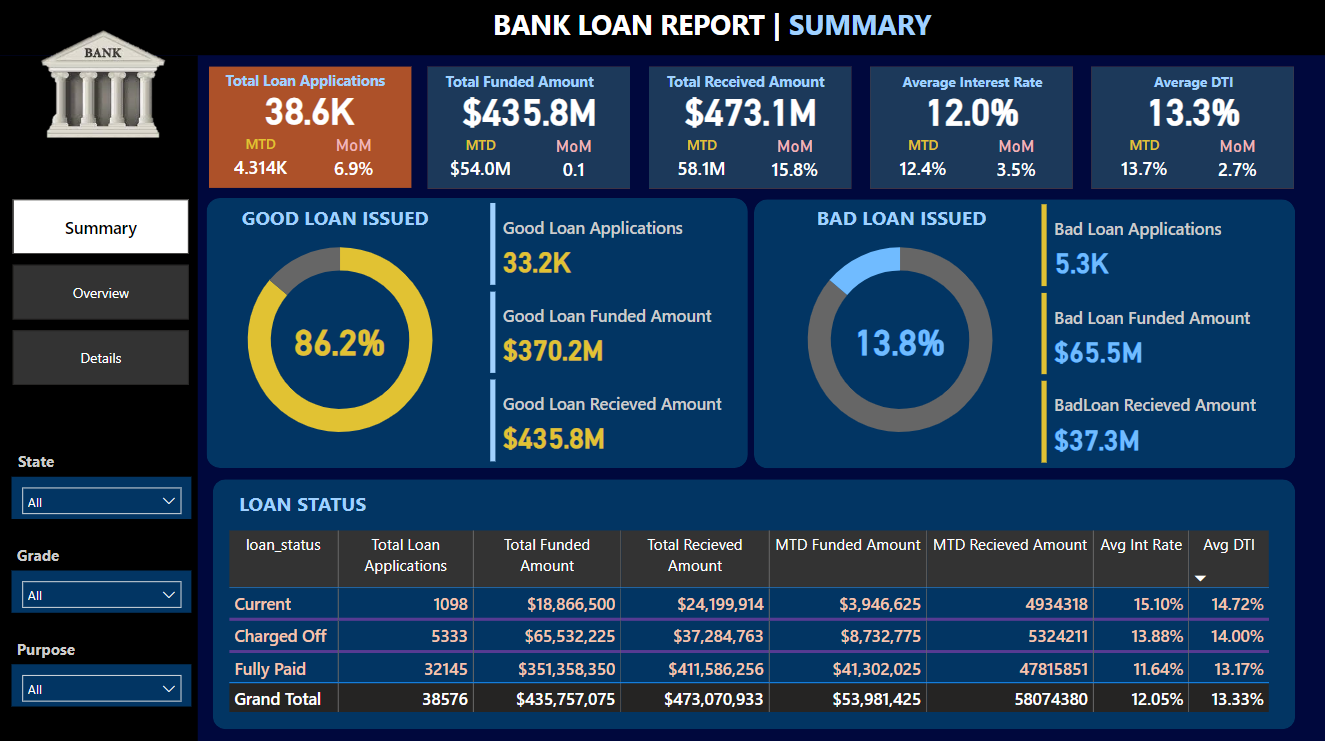

The page's visual inventory and layout, read from the dashboard file:
{"tool":"powerbi","page":{"name":"Summary","canvas":[1280,720],"ordinal":0},"visuals":[{"type":"shape","box":[0,0,1280,55.5],"z":0},{"type":"shape","box":[203.3,65.9,195.4,117],"z":0,"group":"g1"},{"type":"shape","box":[414.1,66.4,195.4,117.5],"z":0,"group":"g2"},{"type":"shape","box":[627.6,66.4,195.4,117.5],"z":0,"group":"g4"},{"type":"shape","box":[841.1,66.4,195.4,117.5],"z":0,"group":"g3"},{"type":"shape","box":[1054.7,66.4,195.4,117.5],"z":0,"group":"g5"},{"type":"shape","box":[0,55.5,191.8,664.7],"z":1000},{"type":"card","fields":{"Values":["financial_loan.Total Loan Applications"]},"box":[201.5,79.9,196.6,53.2],"z":1000,"group":"g1"},{"type":"card","fields":{"Values":["financial_loan.Total Funded Amount"]},"box":[414.1,81.2,196.6,53.2],"z":1000,"group":"g2"},{"type":"card","fields":{"Values":["financial_loan.Total Recieved Amount"]},"box":[627.6,81.2,196.6,53.2],"z":1000,"group":"g4"},{"type":"card","fields":{"Values":["financial_loan.Avg Int Rate"]},"box":[841.1,81.2,196.6,53.2],"z":1000,"group":"g3"},{"type":"card","fields":{"Values":["financial_loan.Avg DTI"]},"box":[1054.7,81.2,196.6,53.2],"z":1000,"group":"g5"},{"type":"textbox","box":[471.7,2.4,450,53.1],"z":2000},{"type":"textbox","box":[213.9,65.1,173.1,29.7],"z":2000,"group":"g1"},{"type":"textbox","box":[426.5,66.4,173.1,29.7],"z":2000,"group":"g2"},{"type":"textbox","box":[640,66.4,173.1,29.7],"z":2000,"group":"g4"},{"type":"textbox","box":[853.5,66.4,173.1,29.7],"z":2000,"group":"g3"},{"type":"textbox","box":[1067.1,66.4,173.1,29.7],"z":2000,"group":"g5"},{"type":"group","id":"g1","title":"Group 1","box":[201.5,65.1,197.9,118.2],"z":3000},{"type":"card","title":"MTD","fields":{"Values":["financial_loan.MTD Loan Applications"]},"box":[213.2,131.1,77.9,50.5],"z":3000,"group":"g1"},{"type":"card","title":"MTD","fields":{"Values":["financial_loan.MTD Funded Amount"]},"box":[425.8,132.4,77.9,50.5],"z":3000,"group":"g2"},{"type":"card","title":"MTD","fields":{"Values":["financial_loan.MTD Recieved Amount"]},"box":[639.3,132.4,77.9,50.5],"z":3000,"group":"g4"},{"type":"card","title":"MTD","fields":{"Values":["financial_loan.MTD Avg Int Rate"]},"box":[852.8,132.4,77.9,50.5],"z":3000,"group":"g3"},{"type":"card","title":"MTD","fields":{"Values":["financial_loan.MTD Avg DTI"]},"box":[1066.4,132.4,77.9,50.5],"z":3000,"group":"g5"},{"type":"group","id":"g2","title":"Group 1","box":[414.1,66.4,196.2,118.3],"z":4000},{"type":"card","title":"MoM","fields":{"Values":["financial_loan.MoM Loan Applications"]},"box":[299.8,131.1,86.6,50.5],"z":4000,"group":"g1"},{"type":"card","title":"MoM","fields":{"Values":["financial_loan.MoM Funded Amount"]},"box":[512.4,132.4,86.6,50.5],"z":4000,"group":"g2"},{"type":"card","title":"MoM","fields":{"Values":["financial_loan.MoM Recieved Amount"]},"box":[725.9,132.4,86.6,50.5],"z":4000,"group":"g4"},{"type":"card","title":"MoM","fields":{"Values":["financial_loan.MoM Avg Int Rate"]},"box":[939.4,132.4,86.6,50.5],"z":4000,"group":"g3"},{"type":"card","title":"MoM","fields":{"Values":["financial_loan.MoM Avg DTI"]},"box":[1153,132.4,86.6,50.5],"z":4000,"group":"g5"},{"type":"group","id":"g3","title":"Group 1","box":[841.1,66.4,196.2,118.3],"z":5000},{"type":"group","id":"g4","title":"Group 1","box":[627.6,66.4,196.2,118.3],"z":6000},{"type":"group","id":"g5","title":"Group 1","box":[1054.7,66.4,196.2,118.3],"z":7000},{"type":"shape","box":[200,193,522.5,260.6],"z":8000},{"type":"shape","box":[728.6,194.8,522.3,259.7],"z":9000},{"type":"donutChart","fields":{"Category":["financial_loan.Good v Bad Loan"],"Y":["financial_loan.Total Loan Applications"]},"box":[173.7,213.5,311.3,232.8],"z":10000},{"type":"card","fields":{"Values":["financial_loan.Good Loan %"]},"box":[243.7,302.8,170.1,55.5],"z":11000},{"type":"textbox","box":[229.2,194.2,199.1,38.6],"z":12000},{"type":"cardVisual","fields":{"Data":["financial_loan.Good Loan Applications","financial_loan.Good Loan Funded Amount","financial_loan.Good Loan Recieved Amount"]},"box":[469.3,193,248.5,260.6],"z":13000},{"type":"donutChart","fields":{"Category":["financial_loan.Good v Bad Loan"],"Y":["financial_loan.Total Loan Applications"]},"box":[714.2,213.5,311.3,232.8],"z":14000},{"type":"textbox","box":[784.2,194.2,199.1,38.6],"z":15000},{"type":"shape","box":[206.3,464.5,1044.8,241.3],"z":16000},{"type":"card","fields":{"Values":["financial_loan.Bad Loan %"]},"box":[784.2,302.8,170.1,55.5],"z":17000},{"type":"cardVisual","fields":{"Data":["financial_loan.Bad Loan Applications","financial_loan.Bad Loan Funded Amount","financial_loan.BadLoan Recieved Amount"]},"box":[1001.3,194.2,248.5,260.6],"z":18000},{"type":"tableEx","fields":{"Values":["financial_loan.loan_status","financial_loan.Total Loan Applications","financial_loan.Total Funded Amount","financial_loan.Total Recieved Amount","financial_loan.MTD Funded Amount","financial_loan.MTD Recieved Amount","financial_loan.Avg Int Rate","financial_loan.Avg DTI"]},"box":[216,509.1,1024.3,185.8],"z":19000},{"type":"textbox","box":[226.8,470.5,199.1,38.6],"z":20000},{"type":"slicer","fields":{"Values":["financial_loan.address_state"]},"box":[12.1,462.3,173.7,41],"z":21000},{"type":"textbox","box":[13.3,432.1,54.3,30.2],"z":22000},{"type":"slicer","fields":{"Values":["financial_loan.grade"]},"box":[12.1,552.8,173.7,41],"z":23000},{"type":"textbox","box":[12.1,522.4,70,30.2],"z":24000},{"type":"slicer","fields":{"Values":["financial_loan.purpose"]},"box":[12.1,643.2,173.7,41],"z":25000},{"type":"textbox","box":[12.1,612.9,84.5,30.2],"z":26000},{"type":"image","box":[14.5,0,168.9,168.9],"z":27000},{"type":"pageNavigator","box":[13.3,194.2,170.1,179.8],"z":28000}]}

Visuals, with their boxes in screenshot pixels (x1, y1, x2, y2), scaled from the page's 1280x720 canvas onto the 1325x741 screenshot:
shape: l=0, t=0, r=1324, b=57
shape: l=210, t=68, r=413, b=188
shape: l=429, t=68, r=631, b=189
shape: l=650, t=68, r=852, b=189
shape: l=871, t=68, r=1073, b=189
shape: l=1092, t=68, r=1294, b=189
shape: l=0, t=57, r=199, b=740
card - financial_loan.Total Loan Applications: l=209, t=82, r=412, b=137
card - financial_loan.Total Funded Amount: l=429, t=84, r=632, b=138
card - financial_loan.Total Recieved Amount: l=650, t=84, r=853, b=138
card - financial_loan.Avg Int Rate: l=871, t=84, r=1074, b=138
card - financial_loan.Avg DTI: l=1092, t=84, r=1295, b=138
textbox: l=488, t=2, r=954, b=57
textbox: l=221, t=67, r=401, b=98
textbox: l=441, t=68, r=621, b=99
textbox: l=662, t=68, r=842, b=99
textbox: l=884, t=68, r=1063, b=99
textbox: l=1105, t=68, r=1284, b=99
"Group 1" group: l=209, t=67, r=413, b=189
"MTD" card: l=221, t=135, r=301, b=187
"MTD" card: l=441, t=136, r=521, b=188
"MTD" card: l=662, t=136, r=742, b=188
"MTD" card: l=883, t=136, r=963, b=188
"MTD" card: l=1104, t=136, r=1185, b=188
"Group 1" group: l=429, t=68, r=632, b=190
"MoM" card: l=310, t=135, r=400, b=187
"MoM" card: l=530, t=136, r=620, b=188
"MoM" card: l=751, t=136, r=841, b=188
"MoM" card: l=972, t=136, r=1062, b=188
"MoM" card: l=1194, t=136, r=1283, b=188
"Group 1" group: l=871, t=68, r=1074, b=190
"Group 1" group: l=650, t=68, r=853, b=190
"Group 1" group: l=1092, t=68, r=1295, b=190
shape: l=207, t=199, r=748, b=467
shape: l=754, t=200, r=1295, b=468
donutChart - financial_loan.Good v Bad Loan x financial_loan.Total Loan Applications: l=180, t=220, r=502, b=459
card - financial_loan.Good Loan %: l=252, t=312, r=428, b=369
textbox: l=237, t=200, r=443, b=240
cardVisual - financial_loan.Good Loan Applications x financial_loan.Good Loan Funded Amount: l=486, t=199, r=743, b=467
donutChart - financial_loan.Good v Bad Loan x financial_loan.Total Loan Applications: l=739, t=220, r=1062, b=459
textbox: l=812, t=200, r=1018, b=240
shape: l=214, t=478, r=1295, b=726
card - financial_loan.Bad Loan %: l=812, t=312, r=988, b=369
cardVisual - financial_loan.Bad Loan Applications x financial_loan.Bad Loan Funded Amount: l=1037, t=200, r=1294, b=468
tableEx - financial_loan.loan_status x financial_loan.Total Loan Applications: l=224, t=524, r=1284, b=715
textbox: l=235, t=484, r=441, b=524
slicer - financial_loan.address_state: l=13, t=476, r=192, b=518
textbox: l=14, t=445, r=70, b=476
slicer - financial_loan.grade: l=13, t=569, r=192, b=611
textbox: l=13, t=538, r=85, b=569
slicer - financial_loan.purpose: l=13, t=662, r=192, b=704
textbox: l=13, t=631, r=100, b=662
image: l=15, t=0, r=190, b=174
pageNavigator: l=14, t=200, r=190, b=385
